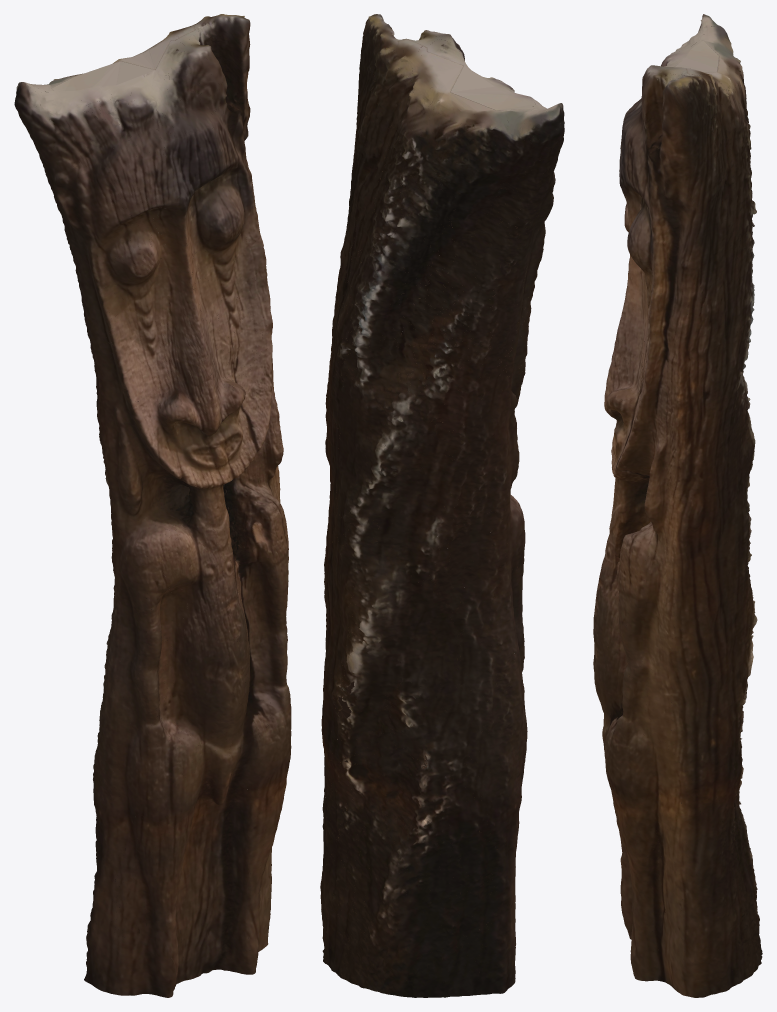
The model's file is iatmul_house_post.opt.glb.
3 views of the same model, side by side, from view 1: azimuth 30°, elevation 25°; view 2: azimuth 150°, elevation 25°; view 3: azimuth 270°, elevation 25° (orthographic). The views are drawn at different scales.
Parts seen in each view (by area): view 1: Object_2; view 2: Object_2; view 3: Object_2.
Boxes of the visible parts, x1,y1,x2,y2 form: Object_2: [14, 14, 291, 997]; Object_2: [320, 14, 564, 997]; Object_2: [593, 14, 762, 997].
Bounding box in the file's own units: 6.45 × 23.36 × 3.98.
1 material, 1 textured.
